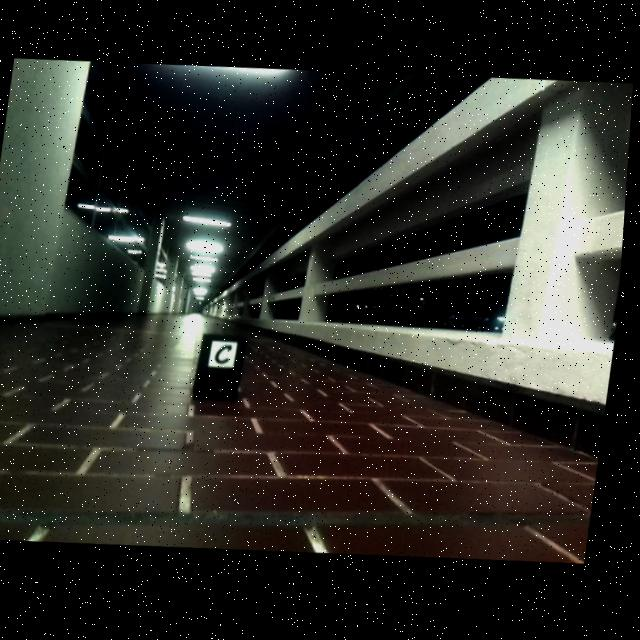C: (219, 346, 237, 365)
